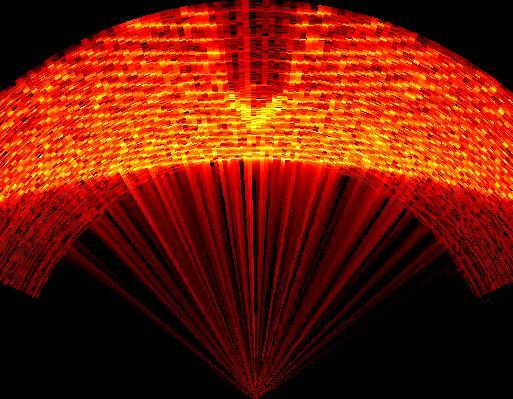box_crate: (216, 2, 302, 132)
